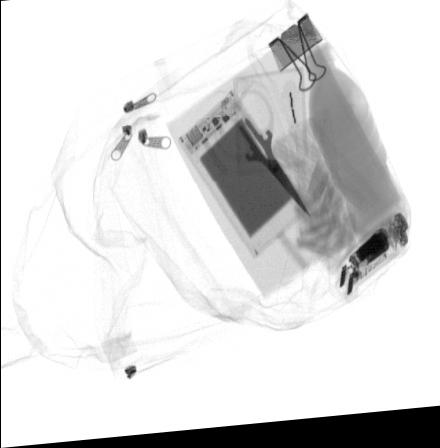Powerbank: (177, 91, 310, 264)
Scissors: (205, 92, 313, 226)
